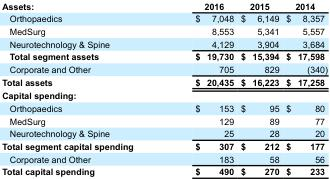table: (1, 0, 326, 176)
table column: (1, 0, 163, 176), (163, 0, 236, 176), (236, 0, 281, 176), (281, 0, 326, 176)
table column header: (1, 0, 326, 12)
table projected row header: (1, 88, 326, 101)
table row: (1, 24, 326, 37), (1, 49, 326, 62), (1, 62, 326, 75), (1, 75, 326, 88), (1, 88, 326, 101), (1, 101, 326, 114), (1, 126, 326, 139), (1, 139, 326, 152), (1, 0, 326, 12), (1, 12, 326, 24), (1, 37, 326, 49), (1, 114, 326, 126), (1, 152, 326, 164), (1, 164, 326, 176)
